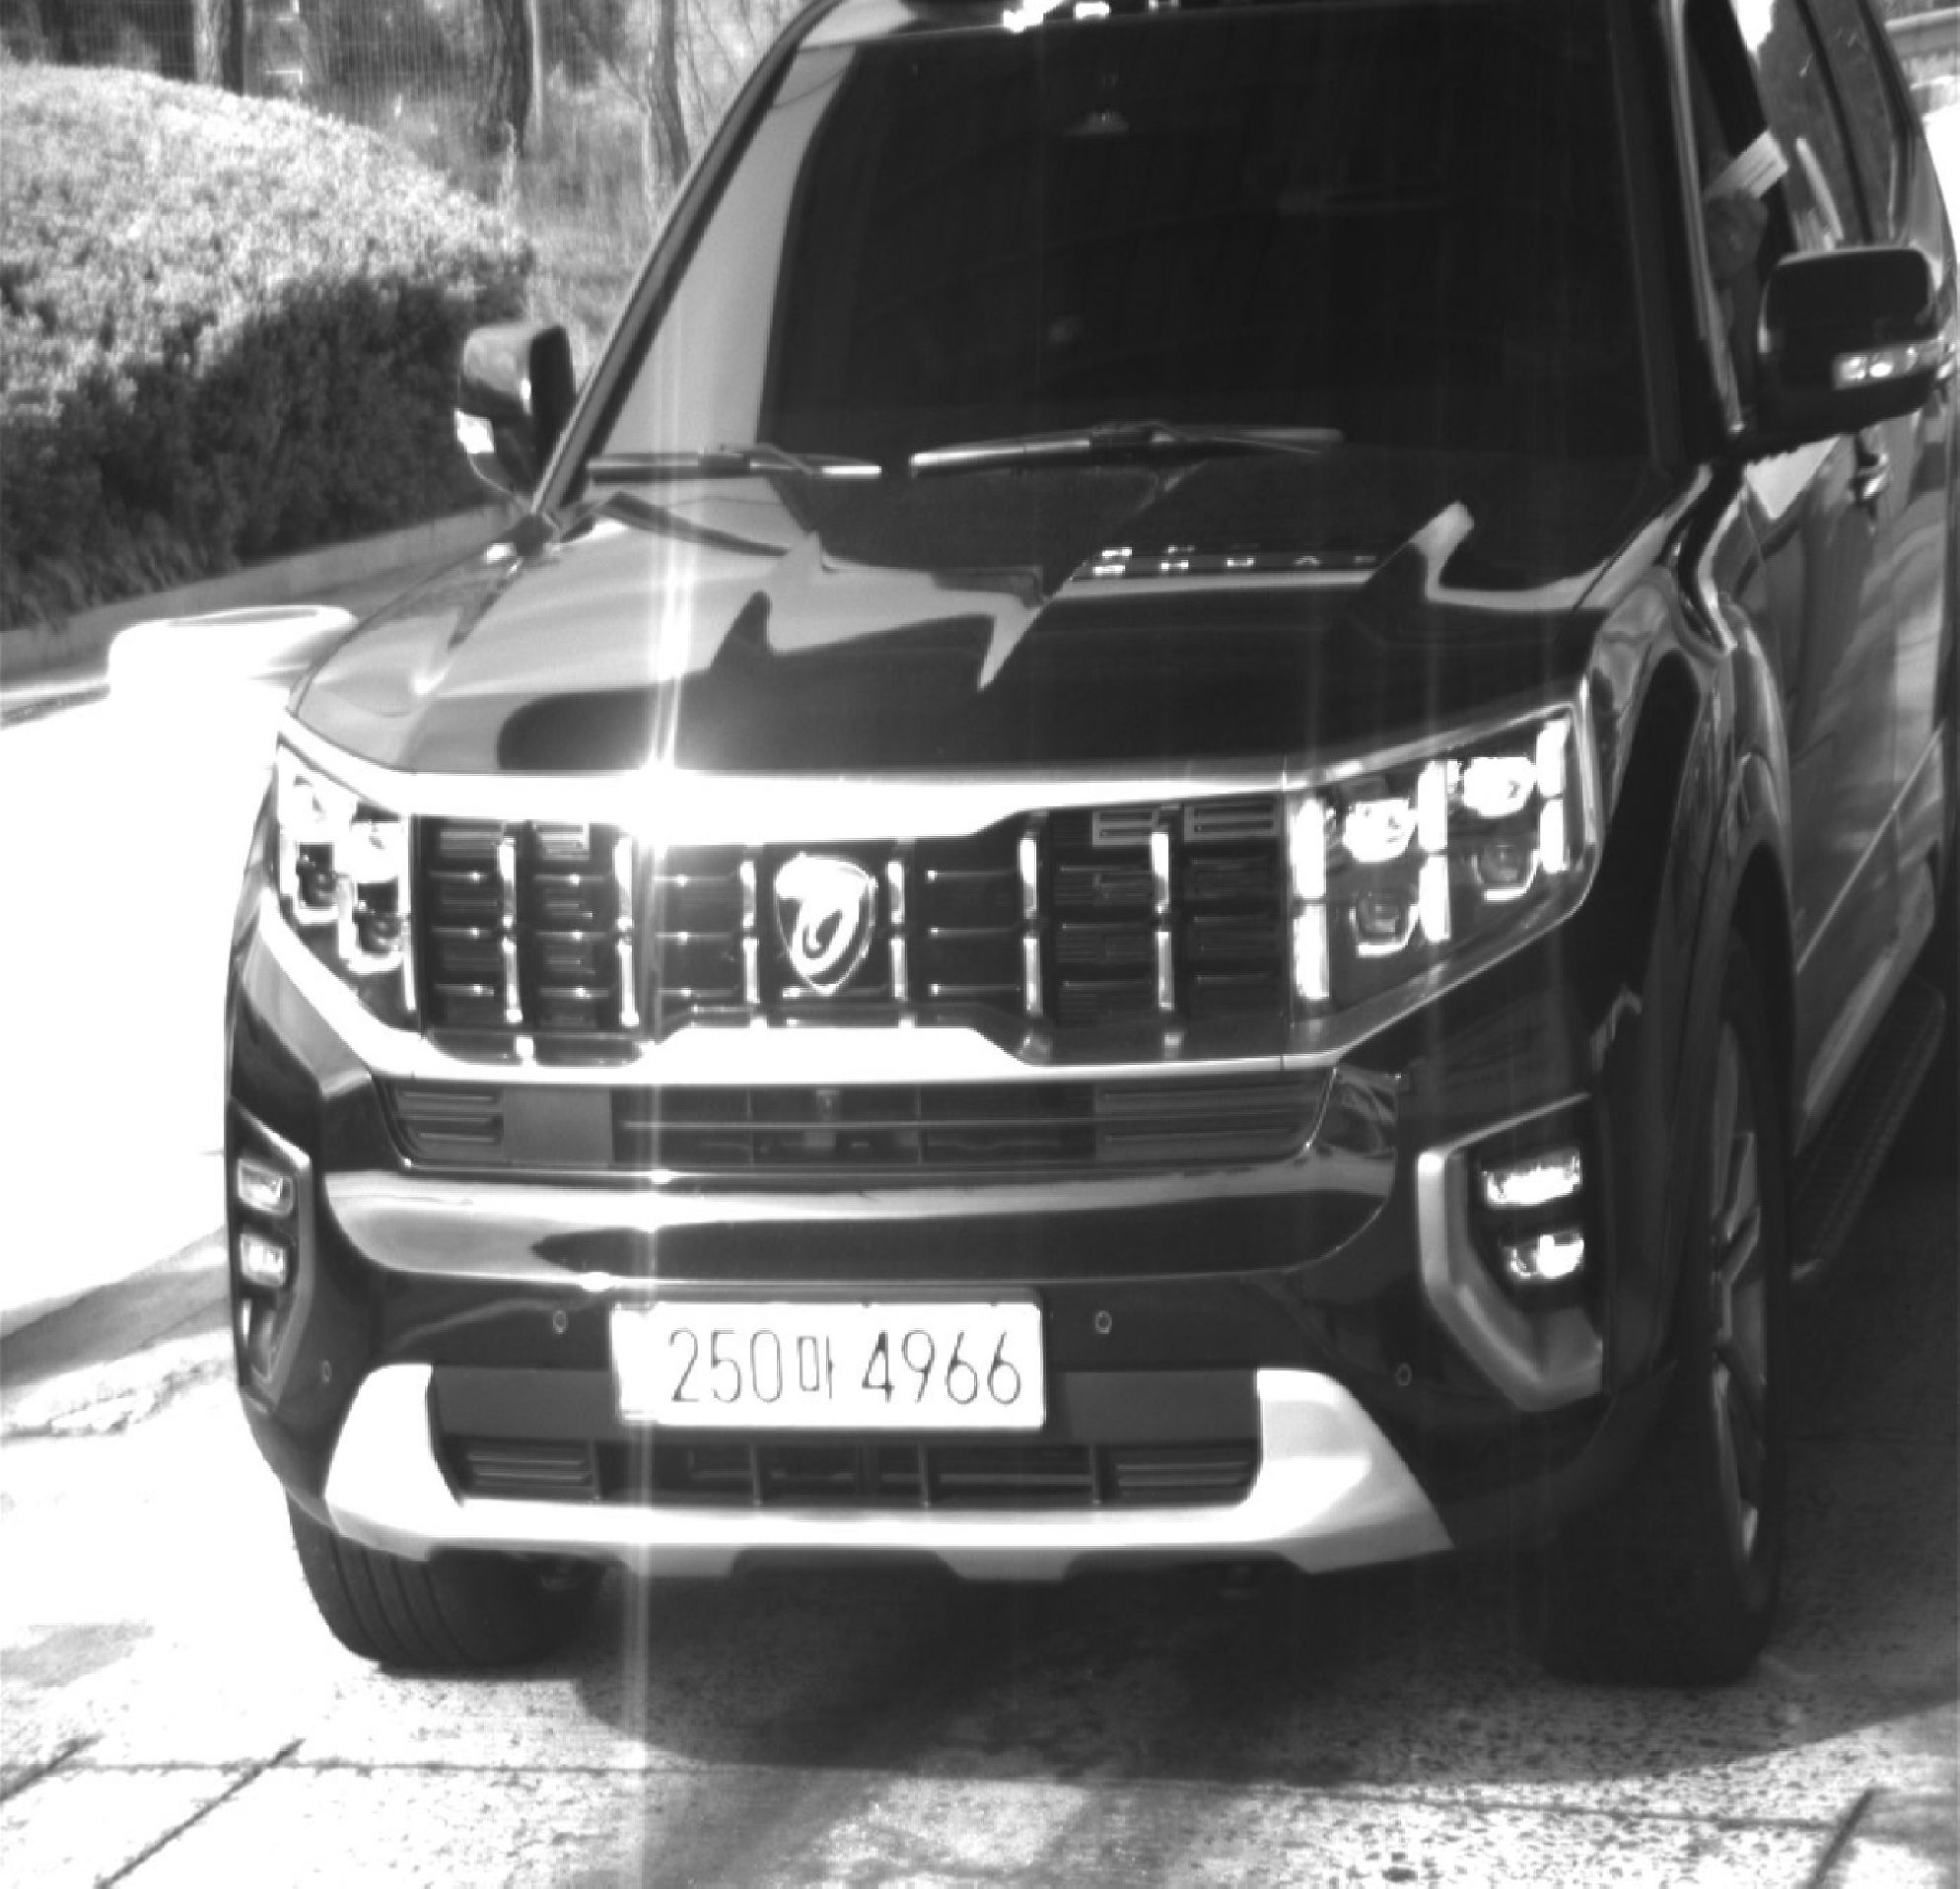car: (229, 1, 1960, 1690)
plate: (610, 1303, 1049, 1429)
